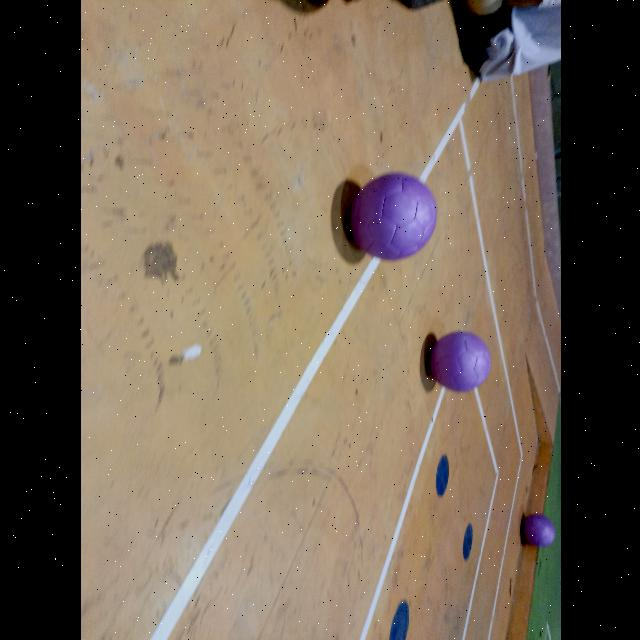P: (348, 174, 436, 260), (428, 332, 490, 392), (521, 515, 555, 547)
